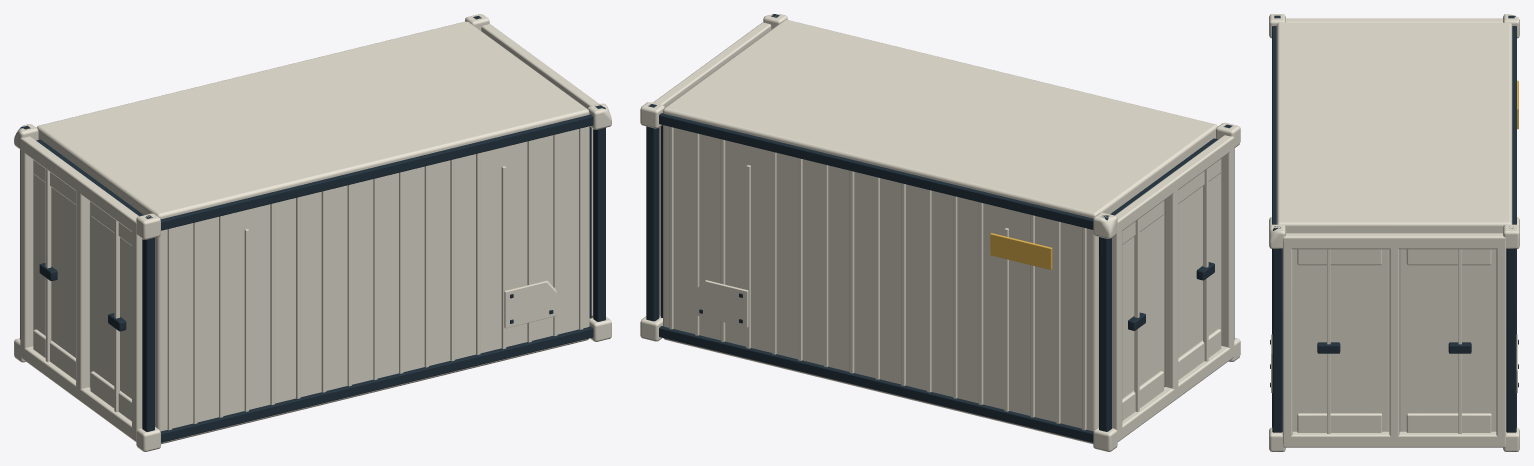
File: container_cream.glb
3 views of the same model, side by side, from view 1: azimuth 30°, elevation 25°; view 2: azimuth 150°, elevation 25°; view 3: azimuth 270°, elevation 25° (orthographic). The views are drawn at different scales.
Visible parts, largest first — view 1: container_cream_cream, container_cream_ink; view 2: container_cream_cream, container_cream_ink, placard.002; view 3: container_cream_cream, container_cream_ink.
Boxes of the visible parts, left/top/right/bottom form: container_cream_cream: left=14, top=14, right=611, bottom=451; container_cream_ink: left=20, top=15, right=605, bottom=442; container_cream_cream: left=640, top=14, right=1240, bottom=451; container_cream_ink: left=646, top=14, right=1234, bottom=442; placard.002: left=990, top=233, right=1052, bottom=269; container_cream_cream: left=1269, top=14, right=1519, bottom=451; container_cream_ink: left=1270, top=15, right=1518, bottom=432.
Size of the model in its own units: 6.17 by 2.9 by 2.98.
